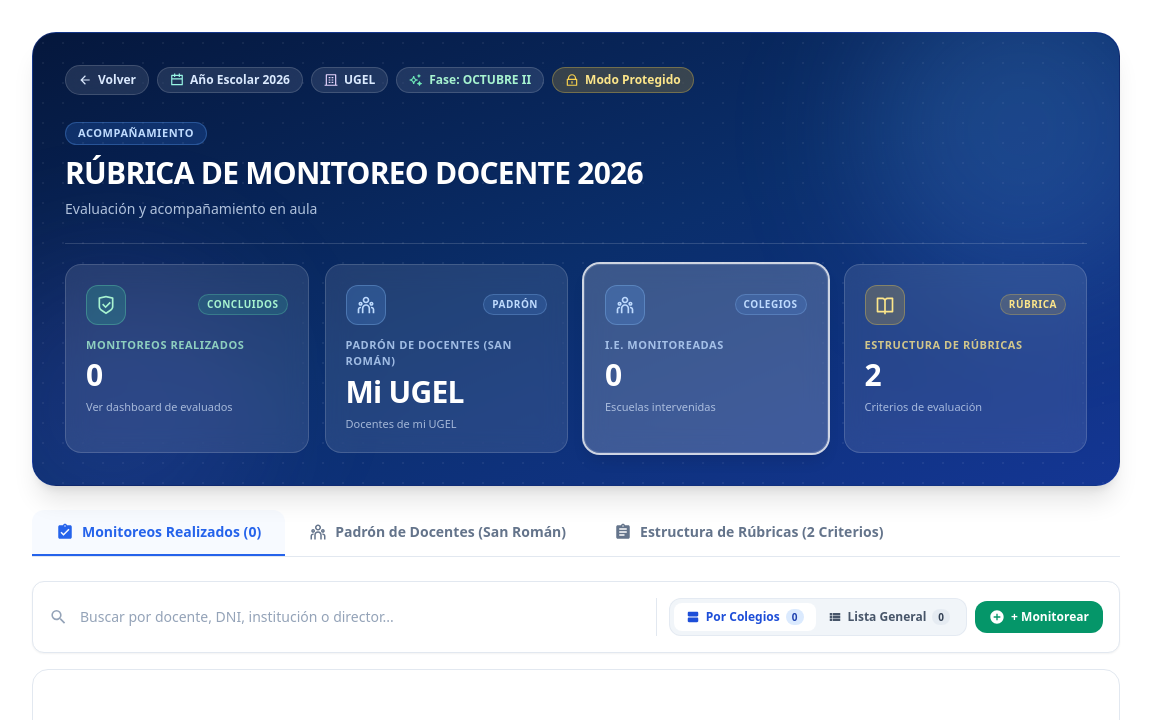
Test: EvaluacionDetalleDocenteContainer › muestra mensaje de no existen resultados en su UGEL si el docente con DNI no existe
The image size is (1152, 720).
Type "99999999" into the field with placeholder "Buscar por docente, DNI, institución o director...". click: (362, 617)
box: x1=80 y1=607 x2=644 y2=627
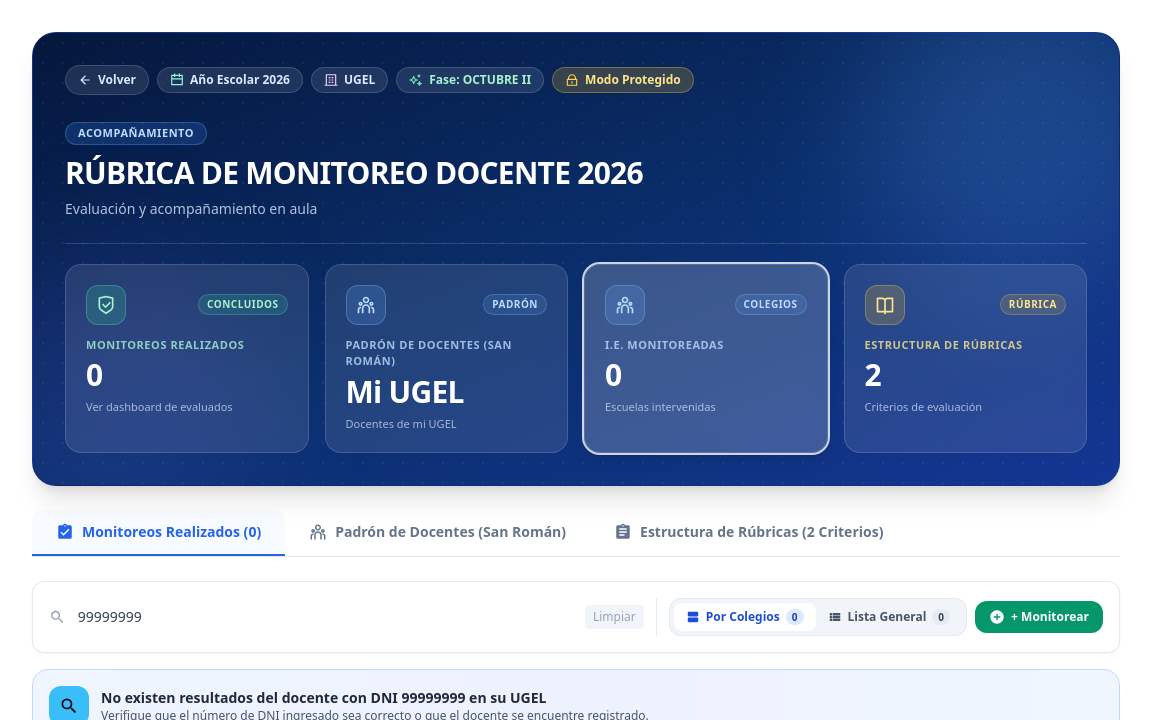
Now the heading "No existen resultados del docente con DNI 99999999 en su UGEL" is shown, box x1=101 y1=688 x2=546 y2=707
